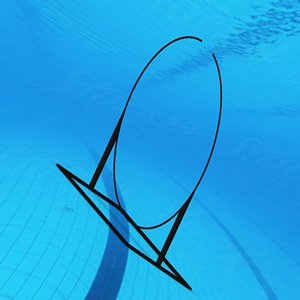circle: (55, 34, 226, 291)
